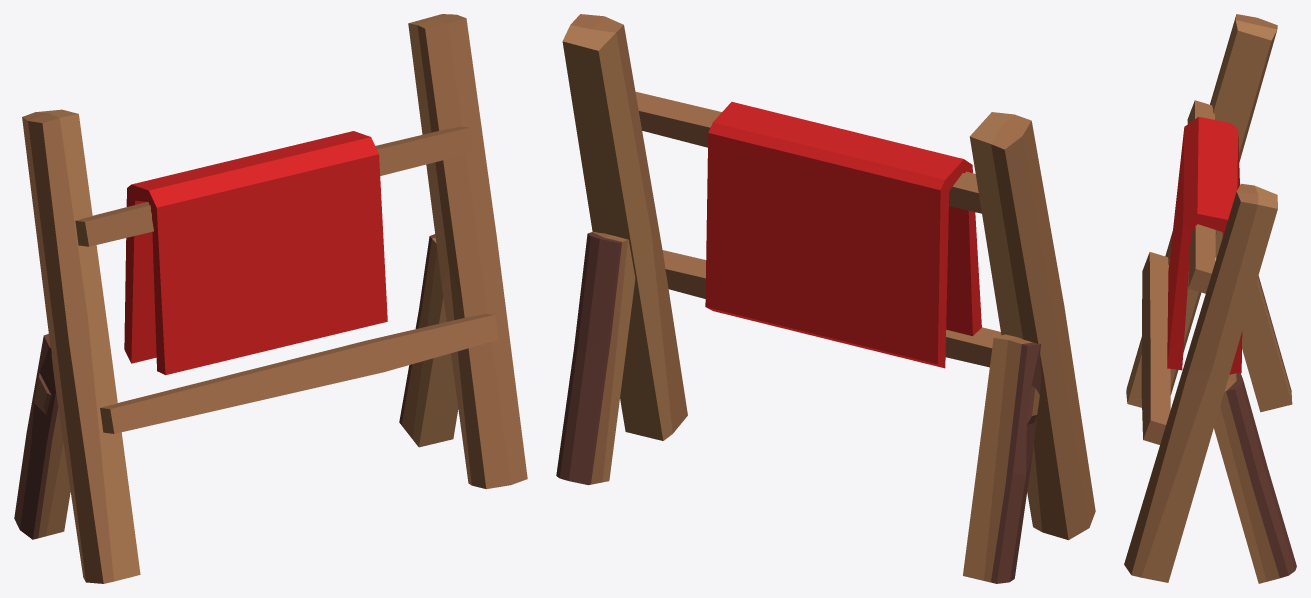
File: drying_fabric_1.fbx
3 renders of one model, left to right at view 1: azimuth 30°, elevation 25°; view 2: azimuth 150°, elevation 25°; view 3: azimuth 270°, elevation 25°, orthographic. The views are drawn at different scales.
Visible parts, largest first — view 1: drying.001; view 2: drying.001; view 3: drying.001.
Part boxes in pixels (<box>): drying.001: <box>14,14,527,583</box>; drying.001: <box>556,14,1095,583</box>; drying.001: <box>1124,14,1296,583</box>.
Size of the model in its own units: 76.64 by 72.8 by 29.57.
